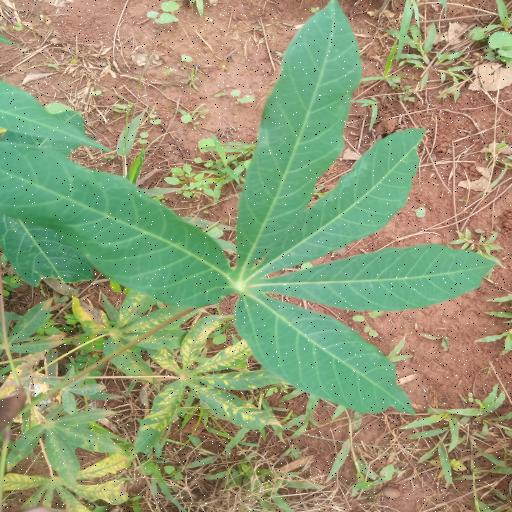Cassava_Healthy: (20, 2, 493, 412)
